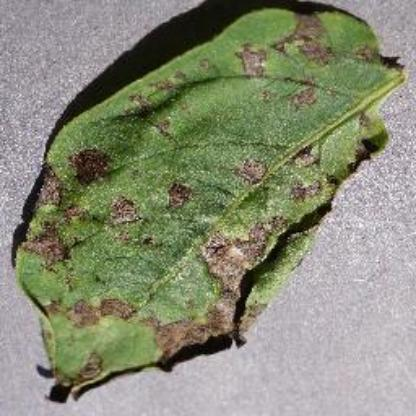Early-Blight: (15, 9, 415, 399)
